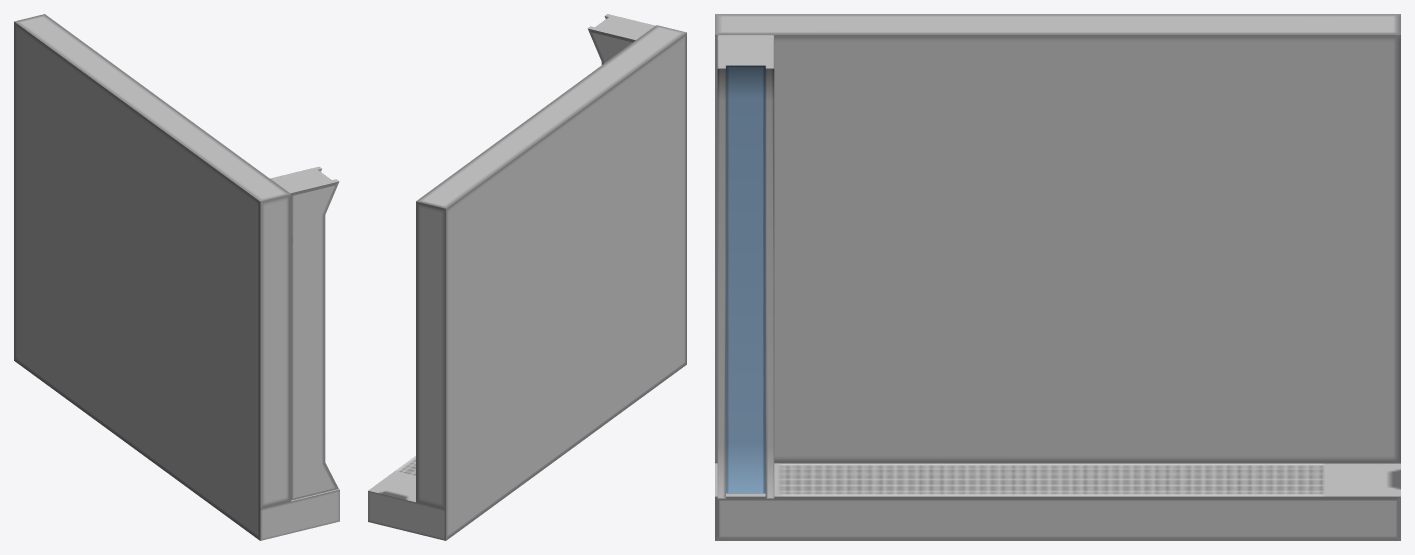
File: Stage_Woll 1.fbx
3 views of the same model, side by side, from view 1: azimuth 30°, elevation 25°; view 2: azimuth 150°, elevation 25°; view 3: azimuth 270°, elevation 25° (orthographic). The views are drawn at different scales.
Visible parts, largest first — view 1: pPlane7; view 2: pPlane7; view 3: pPlane7.
Boxes of the visible parts, left/top/right/bottom form: pPlane7: left=14, top=14, right=339, bottom=540; pPlane7: left=368, top=14, right=686, bottom=540; pPlane7: left=715, top=14, right=1400, bottom=540.
Size of the model in its own units: 4.38 by 17.71 by 23.28.
